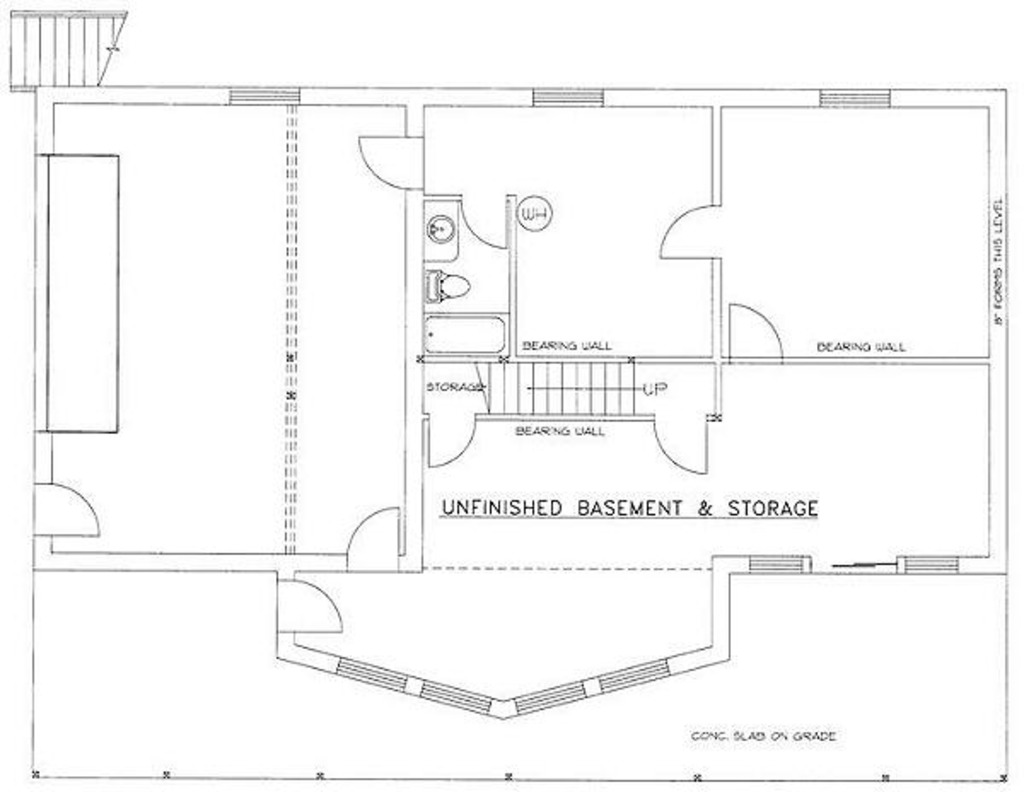door: (333, 494, 410, 576), (24, 480, 106, 547), (358, 127, 432, 193), (647, 410, 720, 476), (658, 195, 729, 262), (270, 576, 349, 635), (720, 300, 792, 361), (457, 191, 515, 259), (427, 411, 483, 466)
large_sink: (415, 262, 479, 304)
small_sink: (419, 201, 454, 259)
stairs: (6, 8, 133, 99), (476, 358, 645, 418)
tub: (419, 315, 511, 357)
window: (332, 654, 495, 720), (501, 659, 676, 716), (529, 80, 603, 112), (229, 84, 320, 110), (746, 549, 818, 578), (813, 84, 897, 108), (893, 553, 963, 579)
